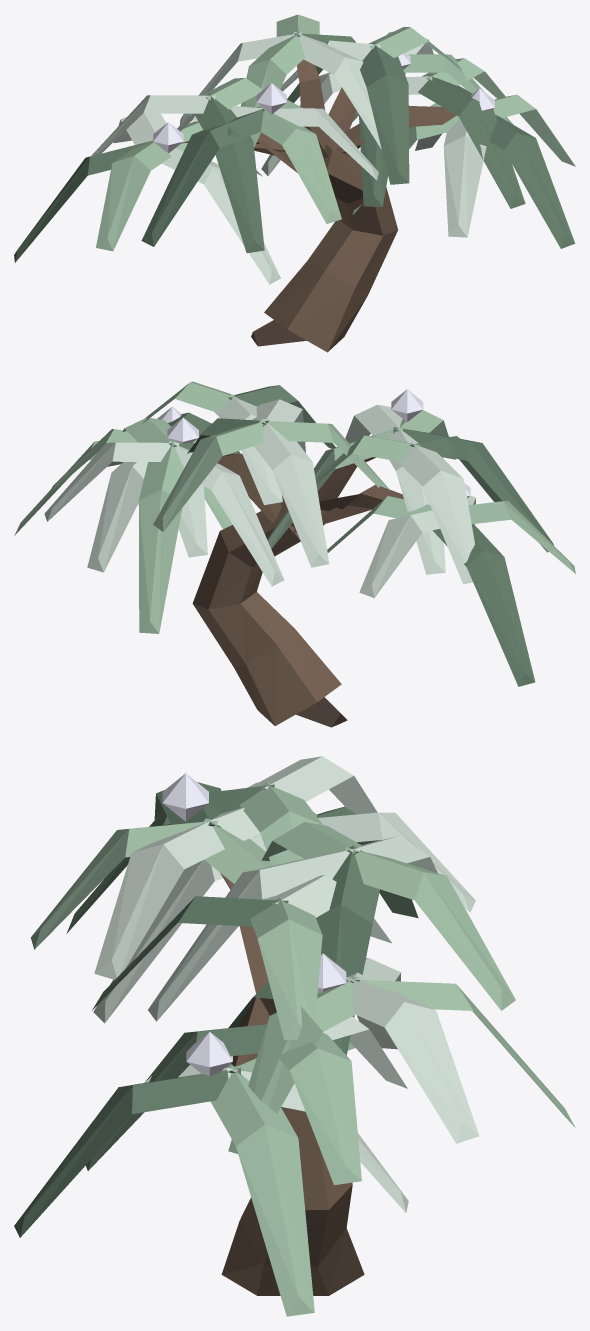
Rendered from tree_anima_2.obj.
The picture shows the model from 3 angles, top to bottom: view 1: azimuth 30°, elevation 25°; view 2: azimuth 150°, elevation 25°; view 3: azimuth 270°, elevation 25°; orthographic projection. The views are drawn at different scales.
Visible parts, largest first — view 1: tree_anima_2; view 2: tree_anima_2; view 3: tree_anima_2.
Part boxes in pixels (<box>): tree_anima_2: <box>14,14,575,352</box>; tree_anima_2: <box>14,381,575,727</box>; tree_anima_2: <box>14,756,575,1316</box>.
Size of the model in its own units: 1.56 by 0.835 by 0.9427.
